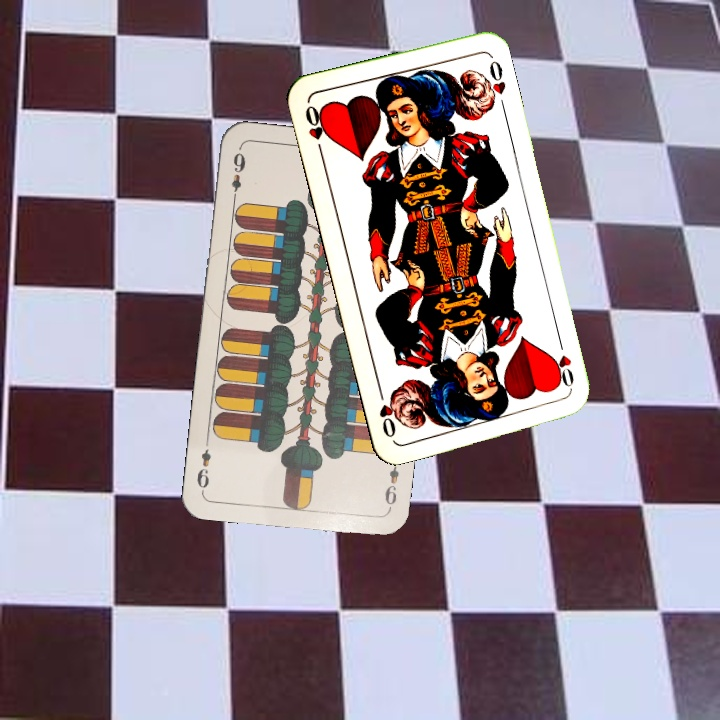E9: (380, 454, 402, 513), (227, 148, 248, 205)
HO: (301, 101, 331, 158), (549, 351, 577, 395)
